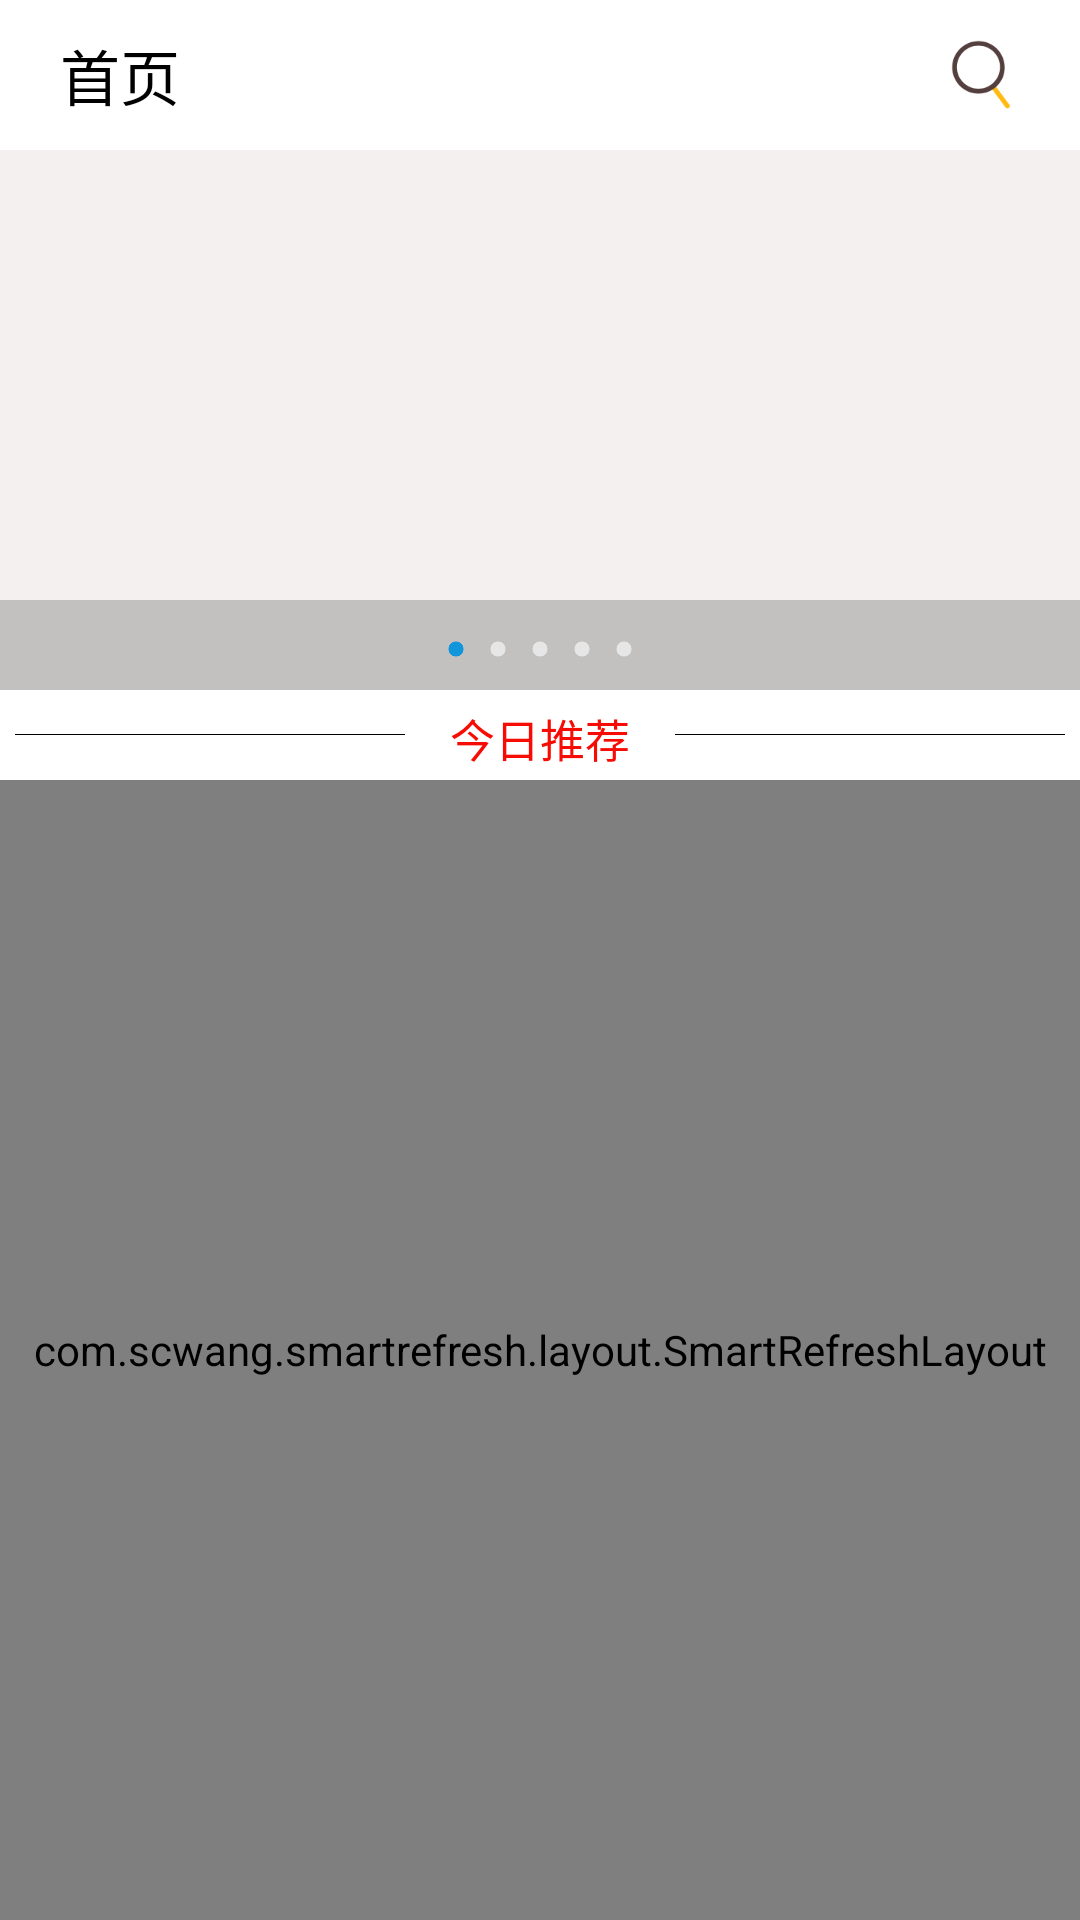

Icons on this 1080 × 1920 Android screen, each with the point to tap as (x=x, y=y):
search: (x=981, y=75)
